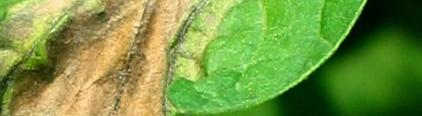Tomato leaf late blight: (0, 0, 388, 116)
